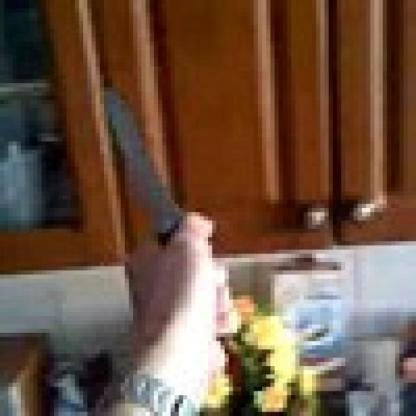Knife: (104, 87, 187, 250)
